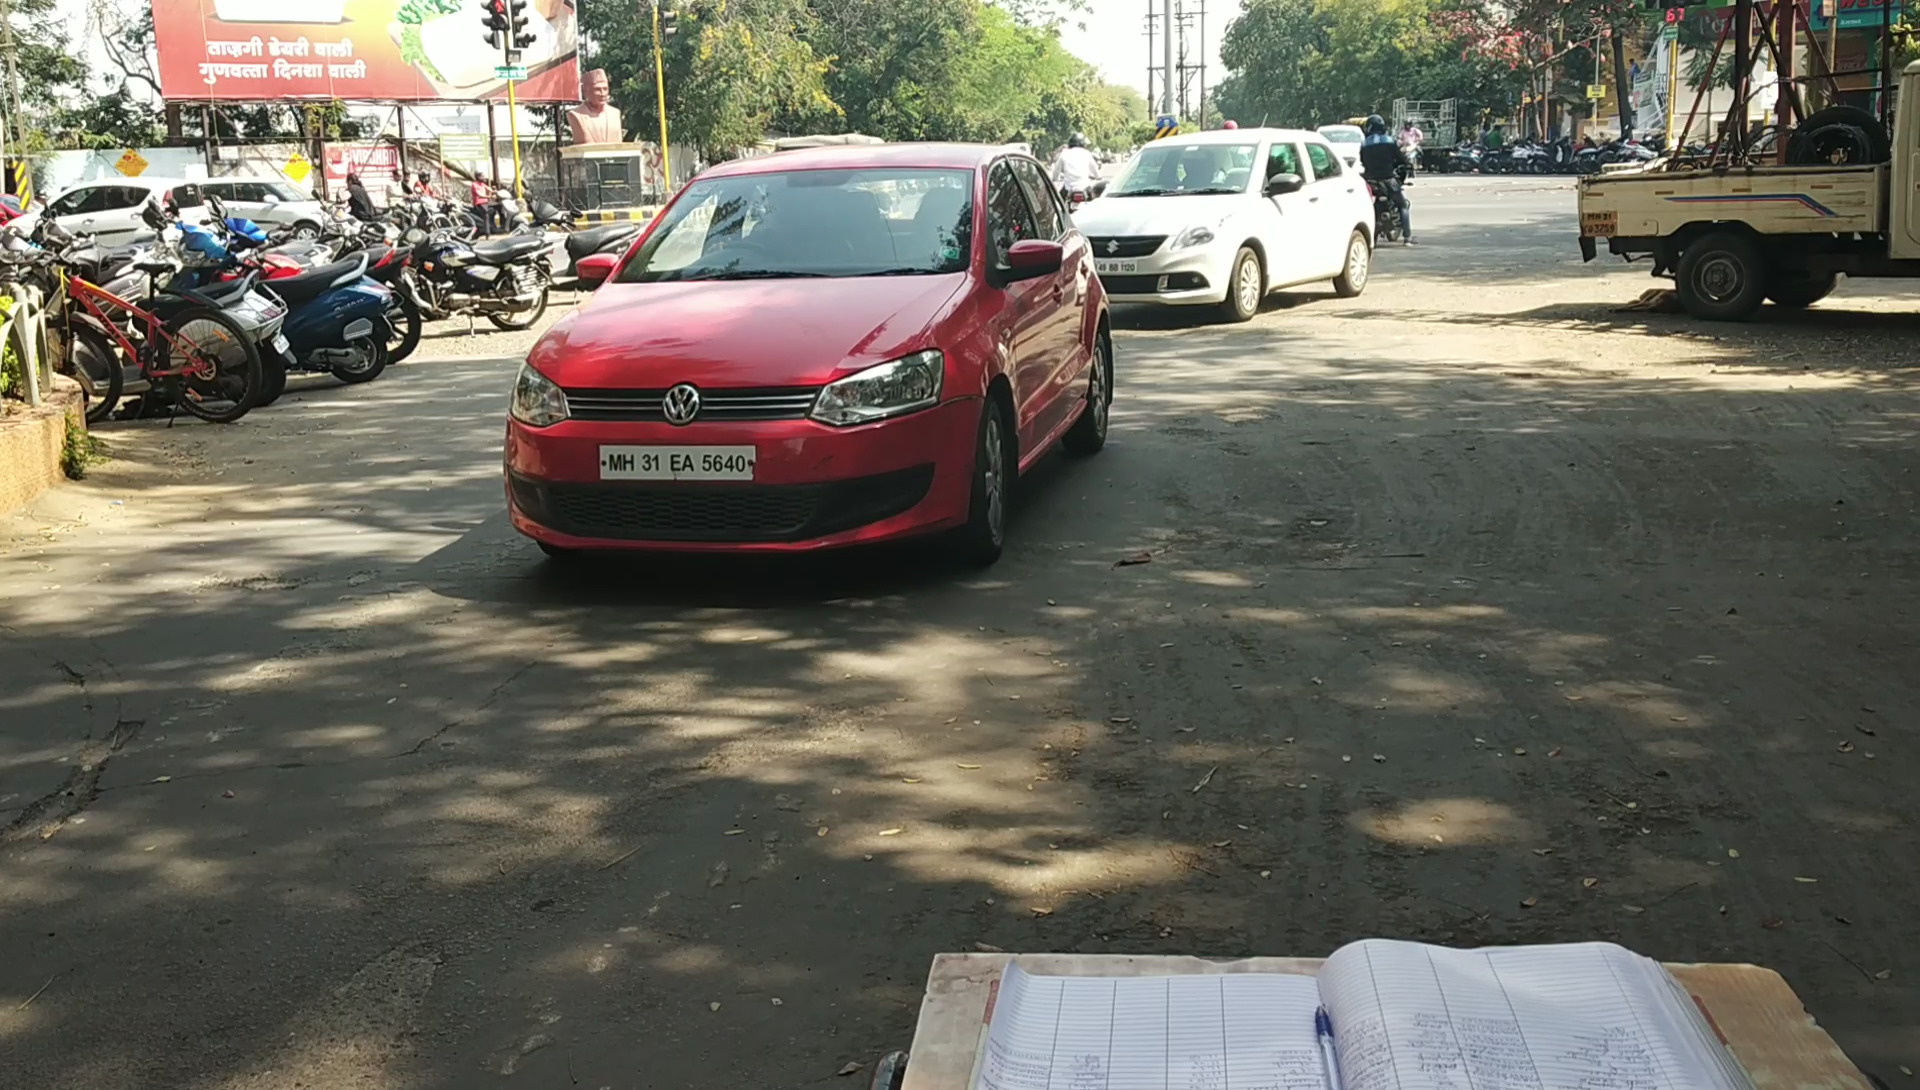car: (489, 135, 1129, 572)
numplate: (594, 447, 766, 495)
